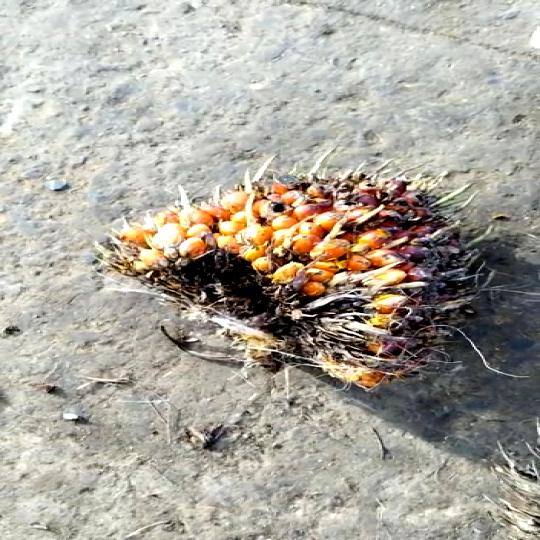masak: (84, 157, 540, 396)
